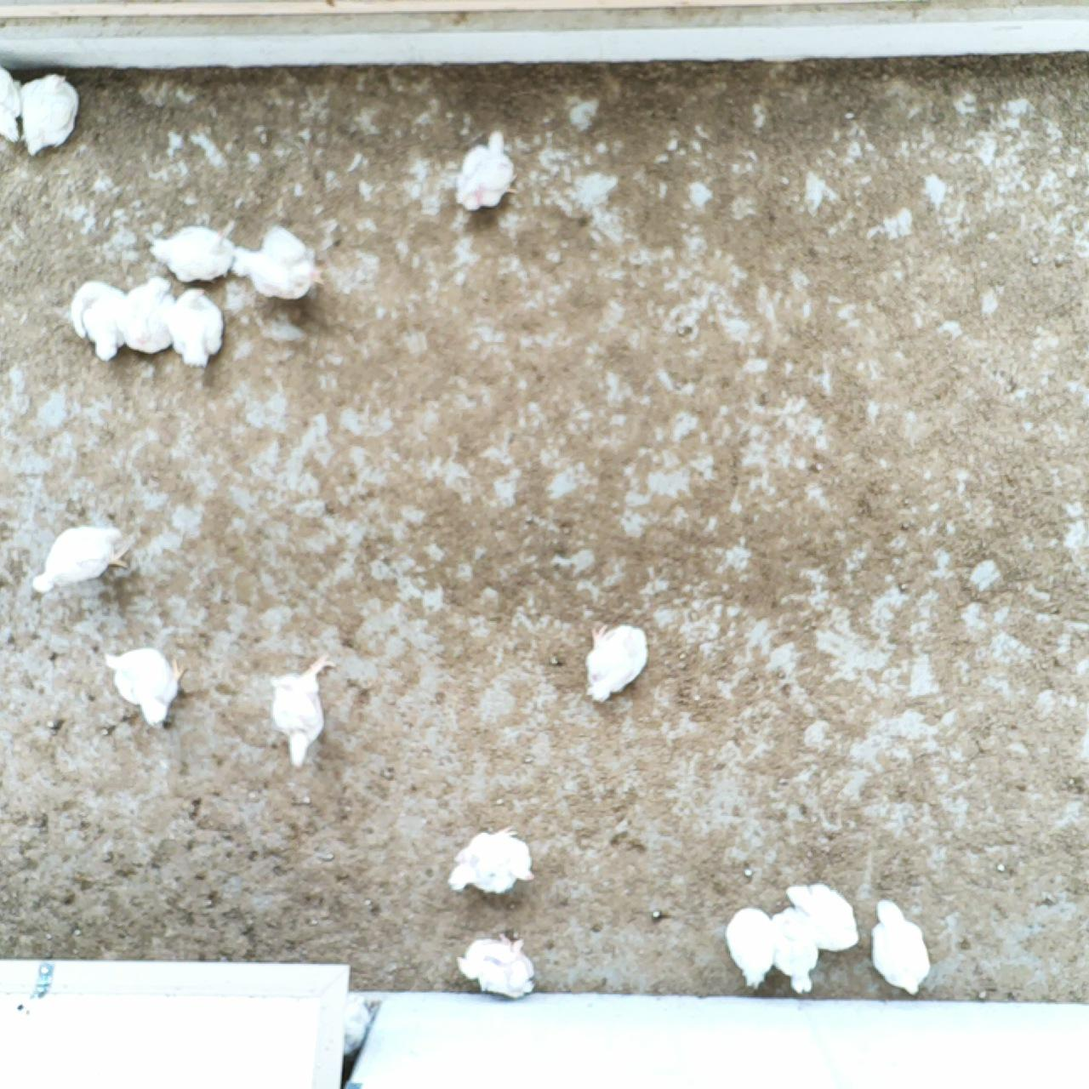chicken: (26, 514, 137, 599), (265, 649, 341, 773), (101, 638, 193, 736), (229, 216, 329, 306), (449, 924, 543, 1003), (140, 214, 242, 286), (446, 821, 540, 899), (866, 895, 932, 999), (581, 619, 654, 713), (449, 125, 522, 217), (162, 281, 231, 375), (781, 878, 861, 956), (18, 71, 82, 162), (766, 901, 823, 999), (67, 276, 129, 365), (120, 270, 181, 360), (722, 905, 778, 992), (339, 990, 381, 1060), (0, 61, 22, 146)
